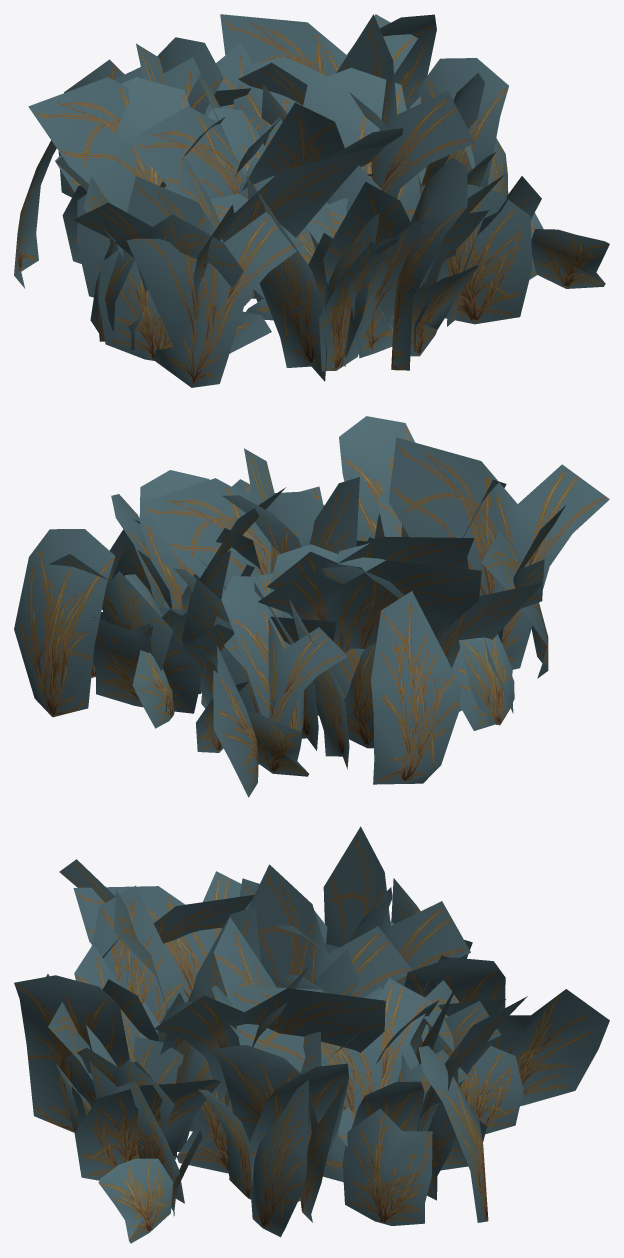
Rendered from grass_patch_2.glb.
3 views of the same model, one above another, from view 1: azimuth 30°, elevation 25°; view 2: azimuth 150°, elevation 25°; view 3: azimuth 270°, elevation 25° (orthographic). The views are drawn at different scales.
Visible parts, largest first — view 1: grasspatch3_grass1_0; view 2: grasspatch3_grass1_0; view 3: grasspatch3_grass1_0.
Boxes of the visible parts, x1=… form: grasspatch3_grass1_0: x1=14, y1=14, x2=609, y2=387; grasspatch3_grass1_0: x1=14, y1=416, x2=609, y2=797; grasspatch3_grass1_0: x1=14, y1=826, x2=609, y2=1243.
Bounding box in the file's own units: 0.9352 × 0.42 × 1.06.
Materials: 1 (1 with a texture image).
